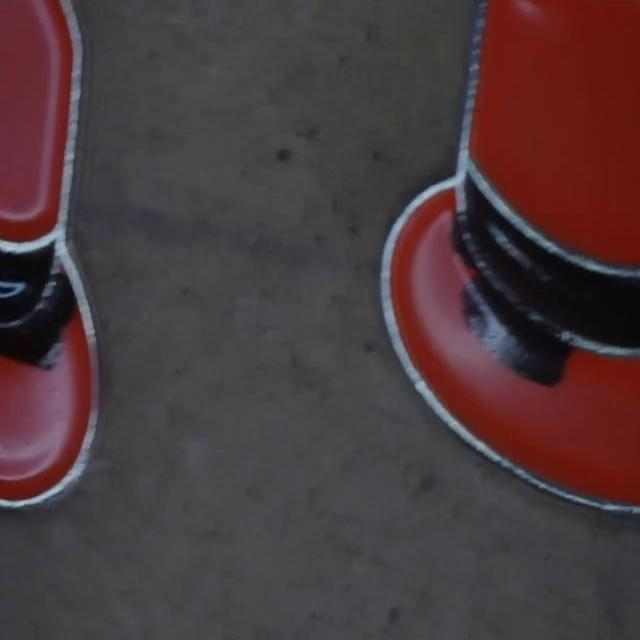Hatband: (459, 158, 640, 358), (0, 233, 55, 326)
Paint_Leak: (464, 276, 571, 387), (0, 262, 76, 368)
RedHatPin: (0, 0, 99, 507)
